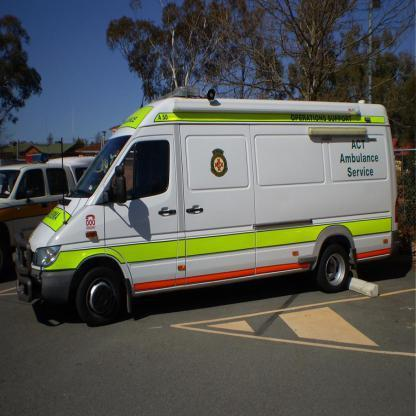ambulance_off: (14, 96, 394, 325)
